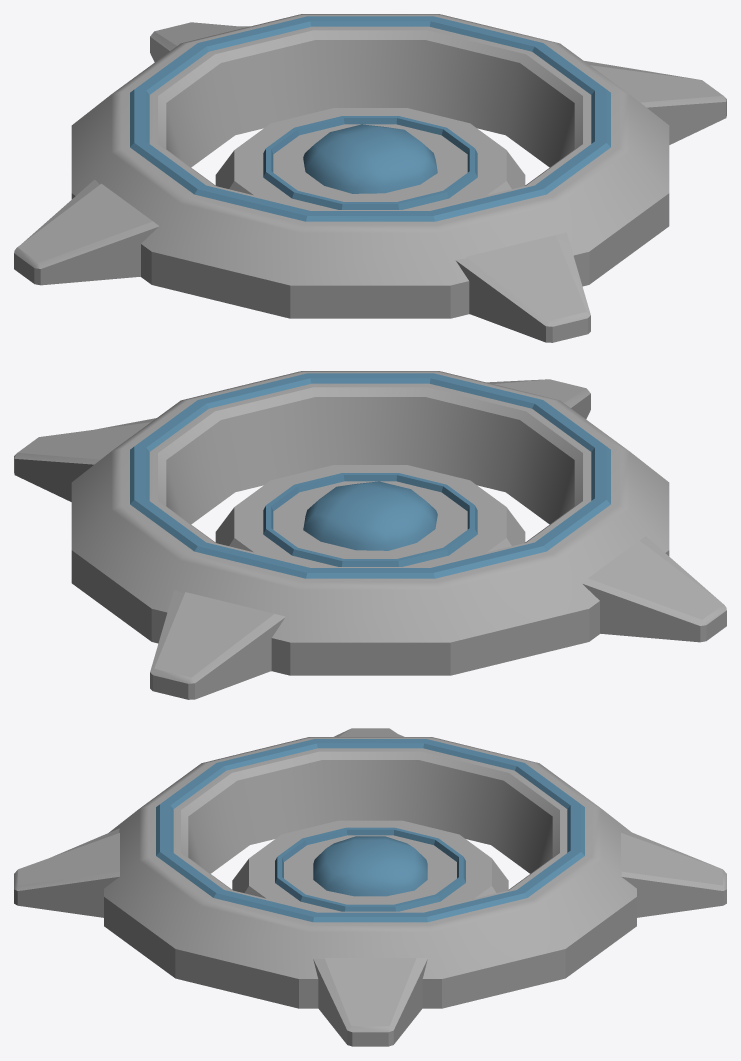
File: Portal.fbx
The picture shows the model from 3 angles, top to bottom: view 1: azimuth 30°, elevation 25°; view 2: azimuth 150°, elevation 25°; view 3: azimuth 270°, elevation 25°; orthographic projection. The views are drawn at different scales.
Parts seen in each view (by area): view 1: Portal; view 2: Portal; view 3: Portal.
Part boxes in pixels (bbox=[...]): Portal: bbox=[14, 14, 726, 342]; Portal: bbox=[14, 371, 726, 699]; Portal: bbox=[14, 728, 726, 1046].
Bounding box in the file's own units: 3.57 × 0.3763 × 3.57.
